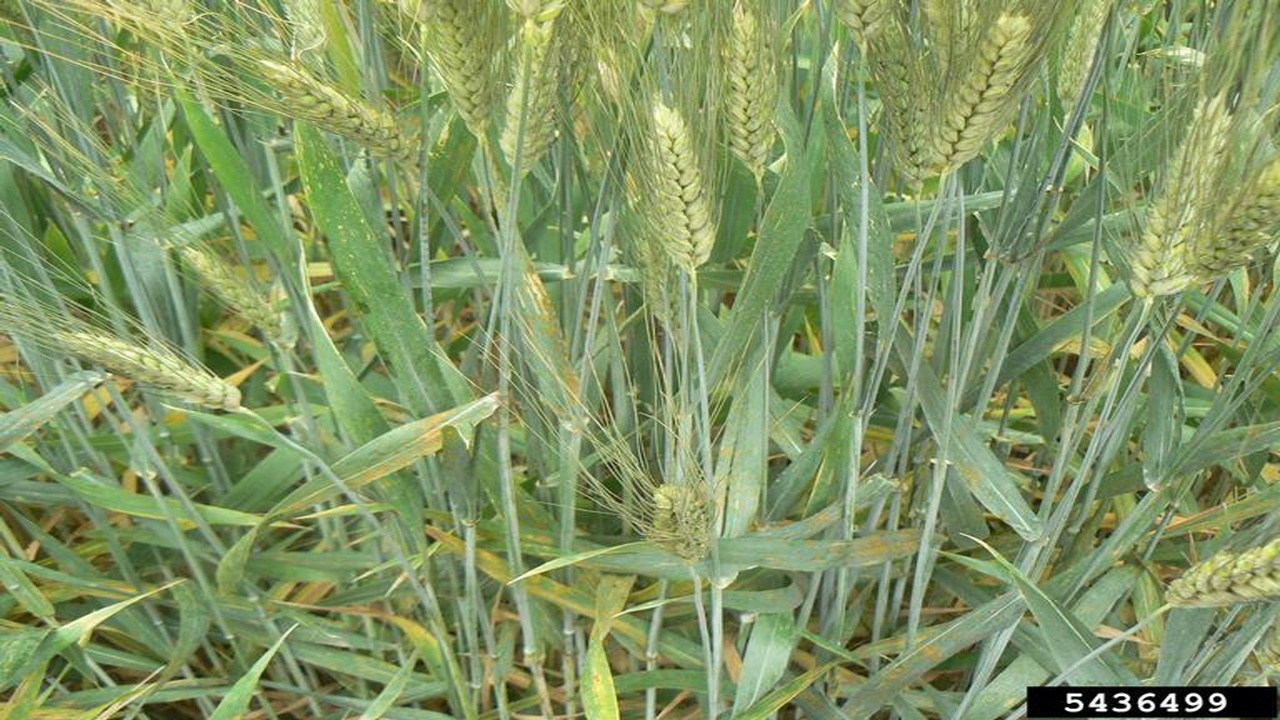leaf_rust: (431, 529, 645, 645), (287, 402, 466, 507), (802, 485, 928, 567), (579, 576, 632, 720), (855, 621, 959, 692)
